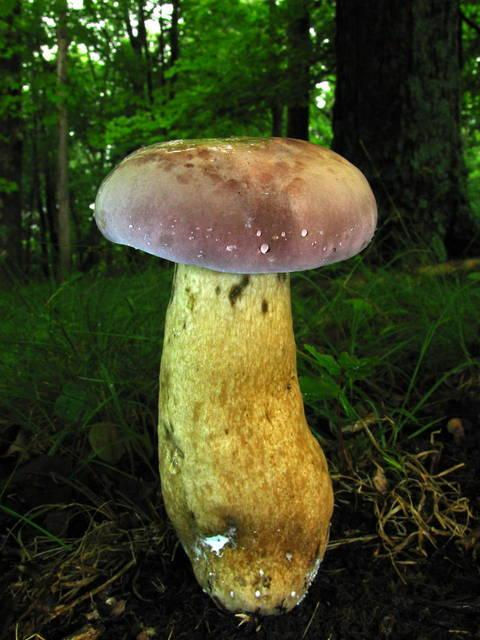poisonous_mushroom: (89, 134, 379, 621)
